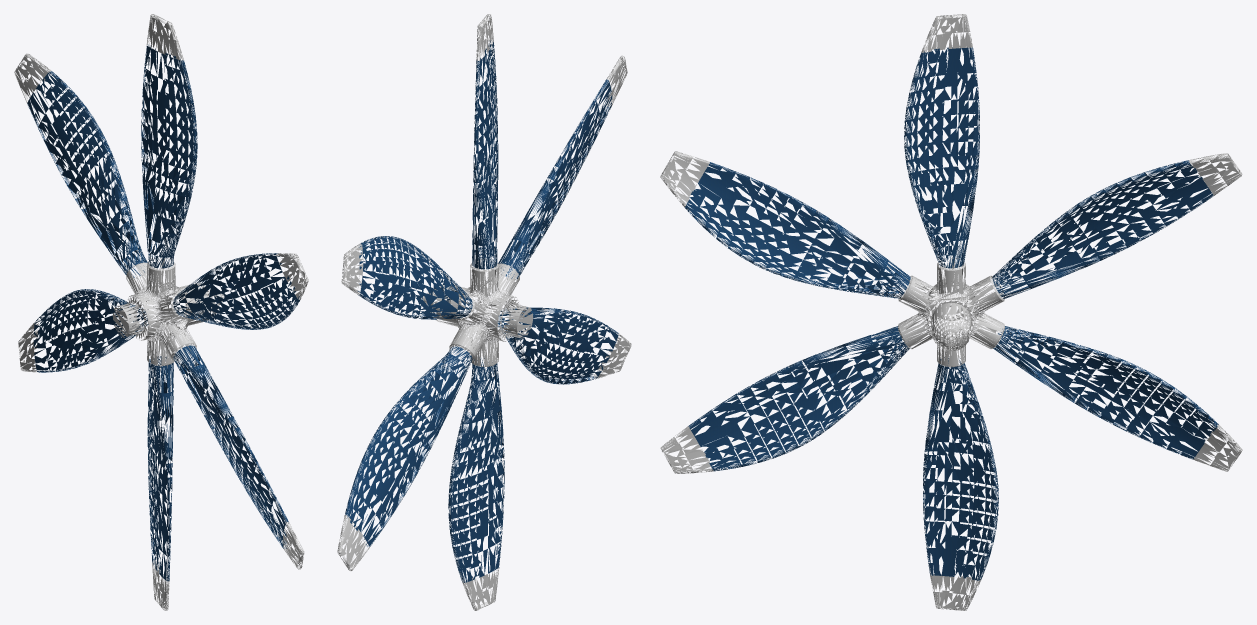
The model's file is propeller.glb.
3 renders of one model, left to right at view 1: azimuth 30°, elevation 25°; view 2: azimuth 150°, elevation 25°; view 3: azimuth 270°, elevation 25°, orthographic.
Visible parts, largest first — view 1: Propeller+from+airboat; view 2: Propeller+from+airboat; view 3: Propeller+from+airboat.
Boxes of the visible parts, x1,y1,x2,y2 form: Propeller+from+airboat: [14, 14, 308, 610]; Propeller+from+airboat: [337, 14, 631, 610]; Propeller+from+airboat: [660, 14, 1242, 610].
Size of the model in its own units: 0.33 by 1.8 by 1.6.
4 materials, 1 textured.
